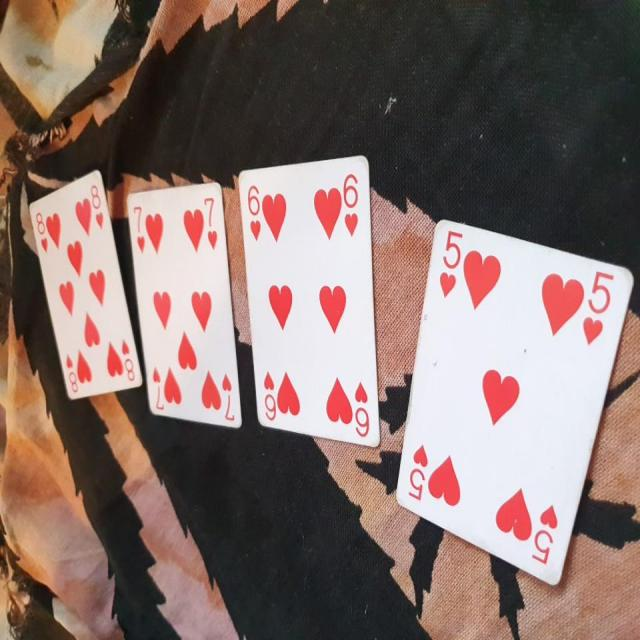5 Hearts: (390, 208, 632, 591)
6 Hearts: (237, 148, 386, 454)
7 Hearts: (120, 174, 249, 446)
8 Hearts: (18, 157, 152, 409)
